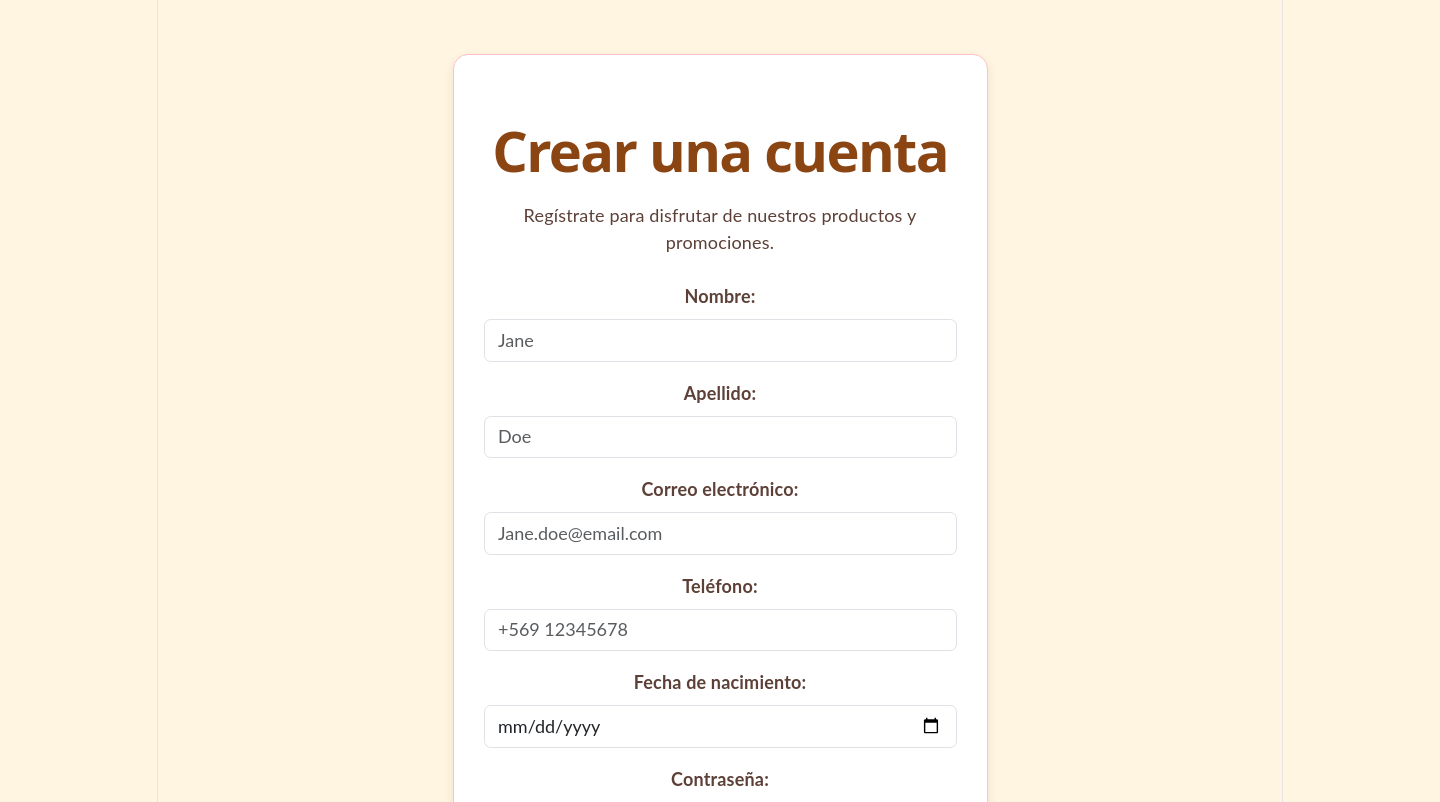
Test: Formulario de registro › rechaza un correo con formato inválido
Type "correo-invalido" into the field labelled "Correo electrónico:" at (720, 533), box [484,512,956,555]
(page scrolled)
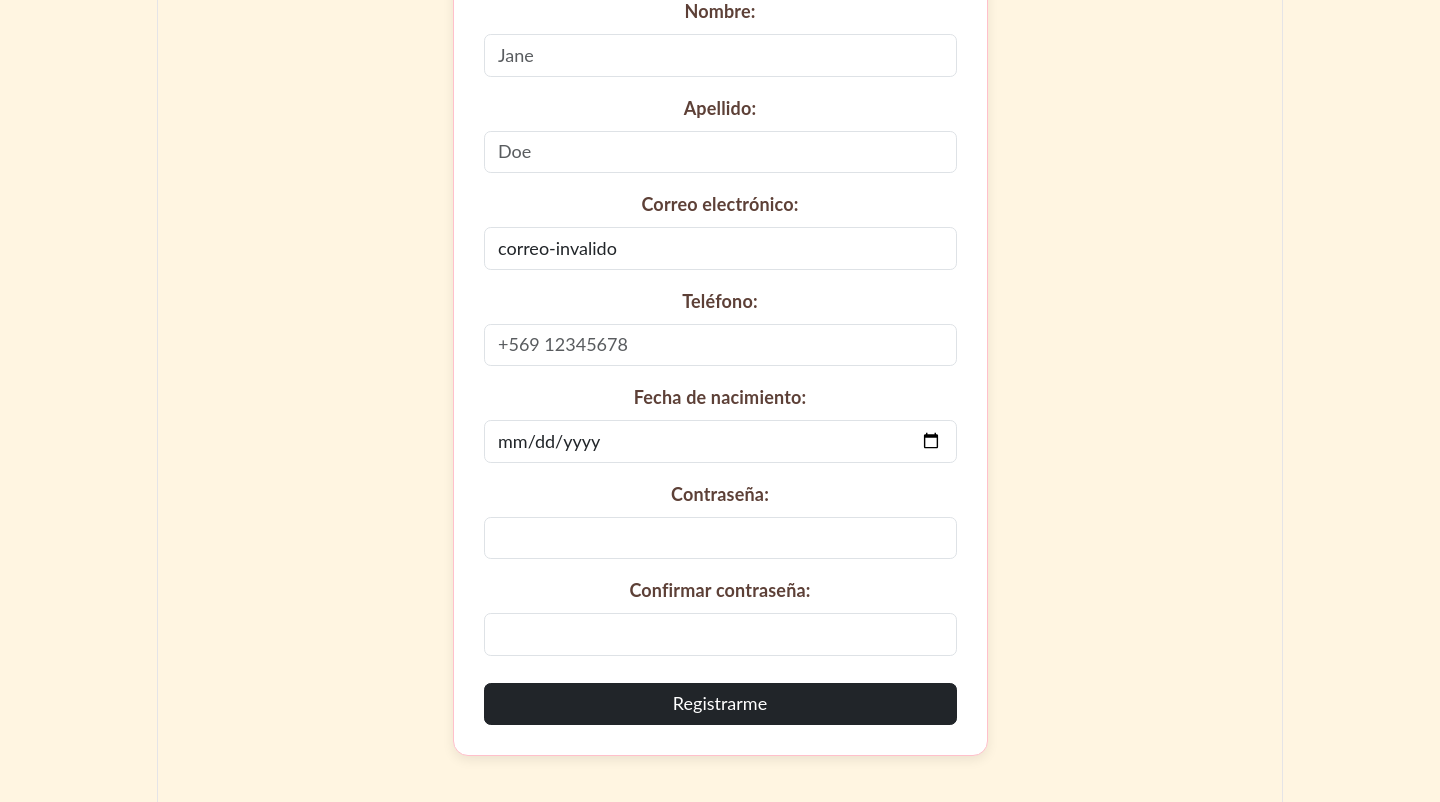
Click the button "Registrarme" at (720, 704), box [484,683,956,725]
(page scrolled)
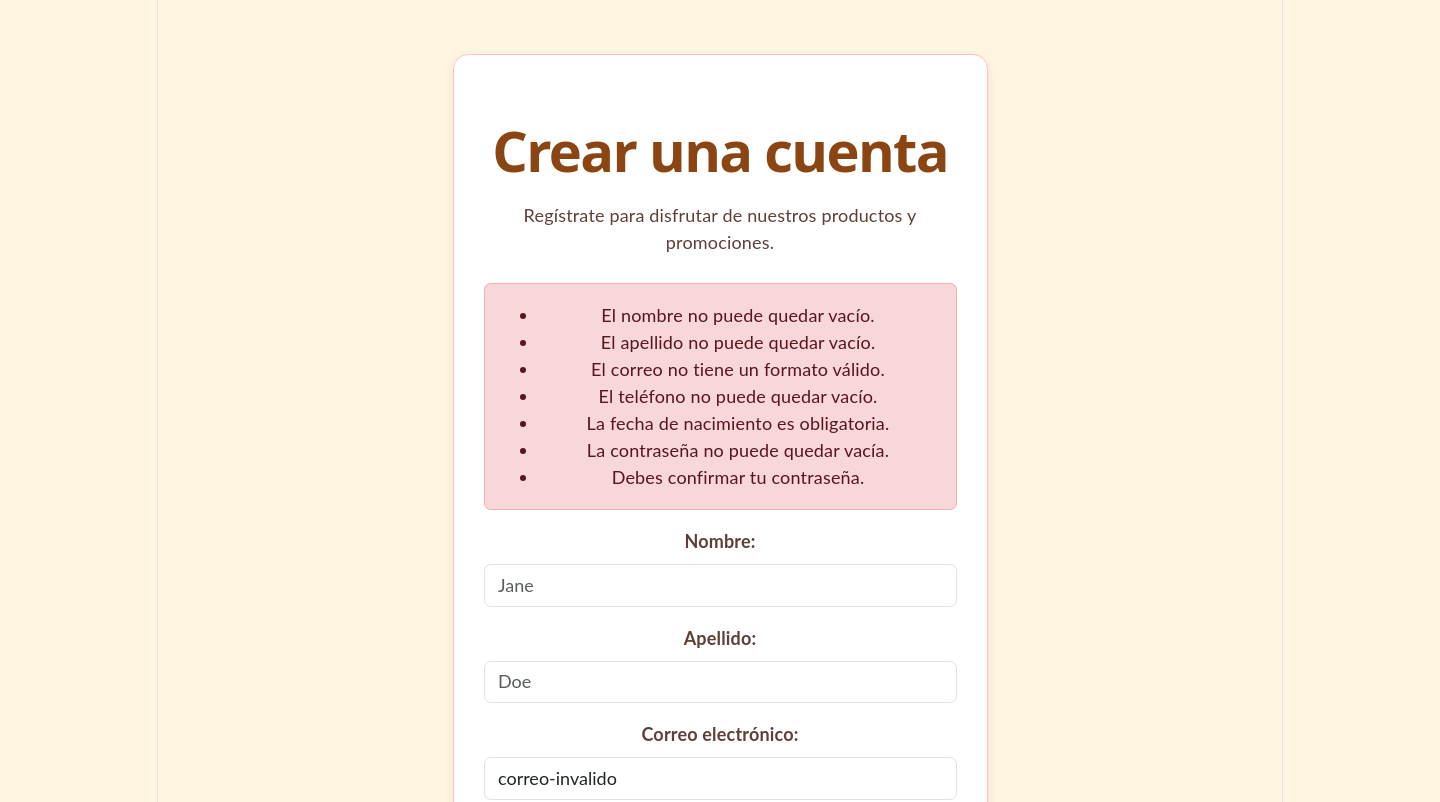
Now the list item "El correo no tiene un formato válido." is shown, box [591,358,885,380]
